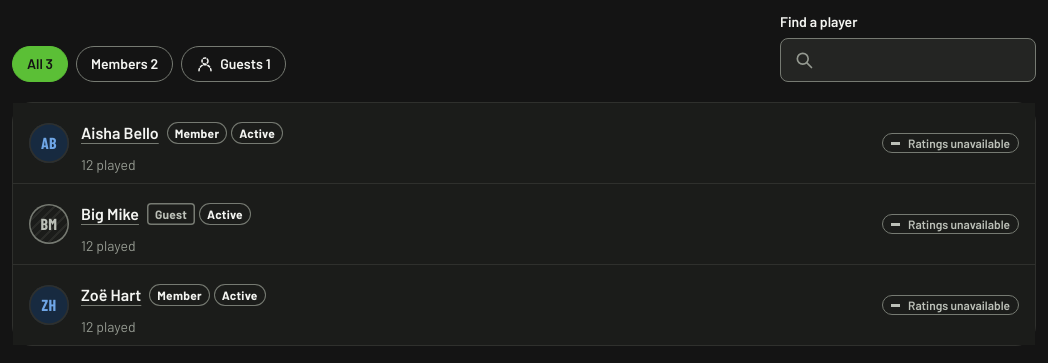
Test: PlayersPanel › says that no player matches when the filter leaves nobody, and that there are none when there are none
This screenshot has width=1048, height=363.
In the search field labelled "Find a player": (908, 60) top-left (780, 38), bottom-right (1036, 82), type "nobody here"
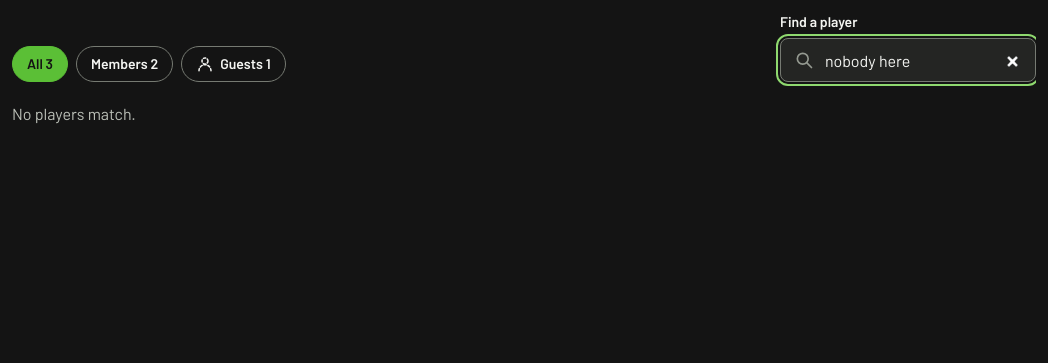
Now the text "No players match." is shown, box top-left (12, 104), bottom-right (136, 124)
